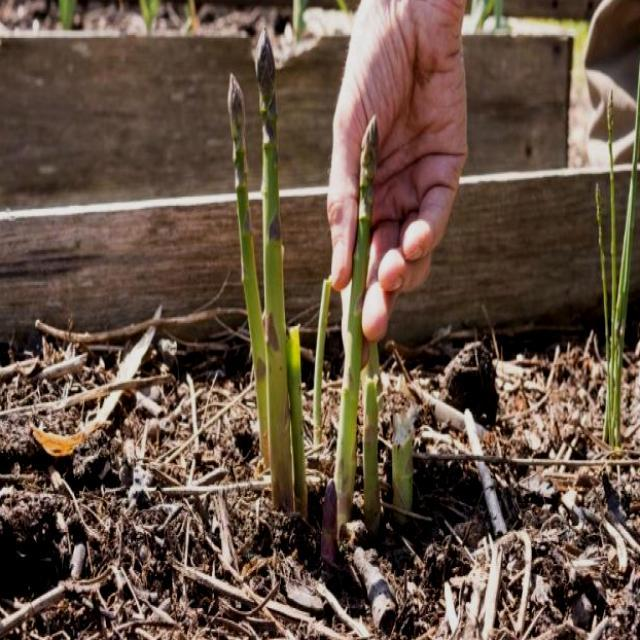aspargus: (227, 23, 302, 513)
